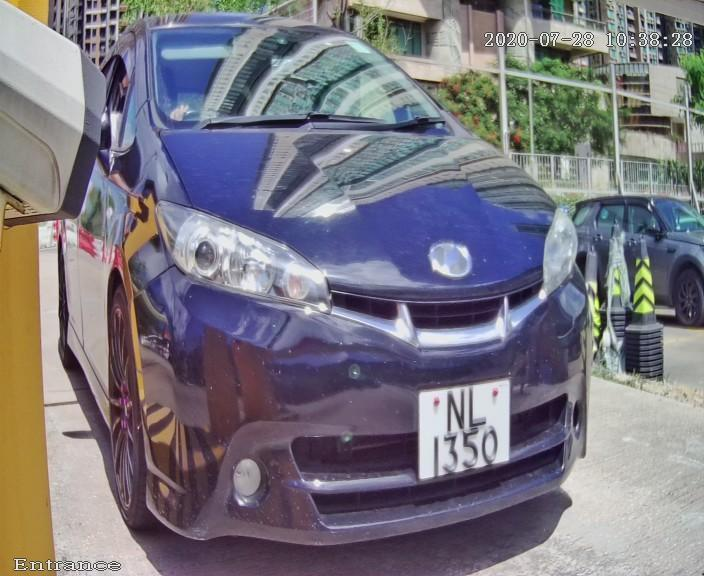privatecar: (23, 16, 667, 561)
